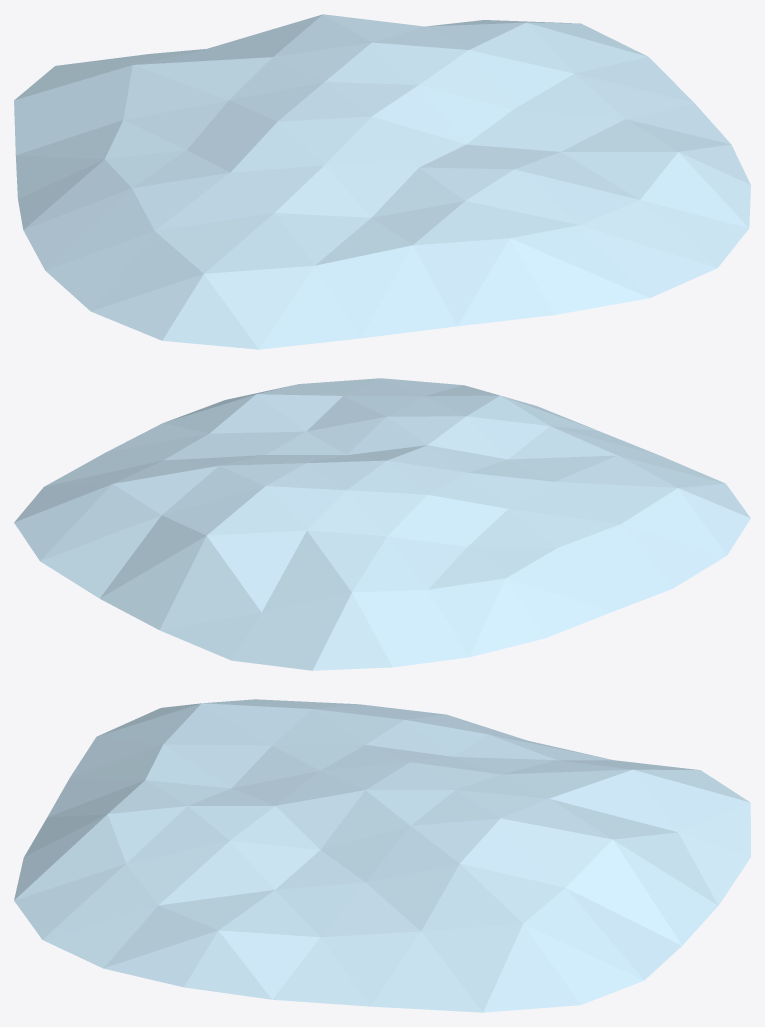
File: model_polytope_ground_snow.fbx
3 renders of one model, top to bottom at view 1: azimuth 30°, elevation 25°; view 2: azimuth 150°, elevation 25°; view 3: azimuth 270°, elevation 25°, orthographic. The views are drawn at different scales.
Parts seen in each view (by area): view 1: model_polytope_ground_snow; view 2: model_polytope_ground_snow; view 3: model_polytope_ground_snow.
Boxes of the visible parts, box(x1,y1,x2,y2) form: model_polytope_ground_snow: box(14, 14, 750, 349); model_polytope_ground_snow: box(14, 378, 750, 670); model_polytope_ground_snow: box(14, 699, 750, 1012).
Bounding box in the file's own units: 443 × 54.26 × 437.
Materials: 1 (1 with a texture image).
